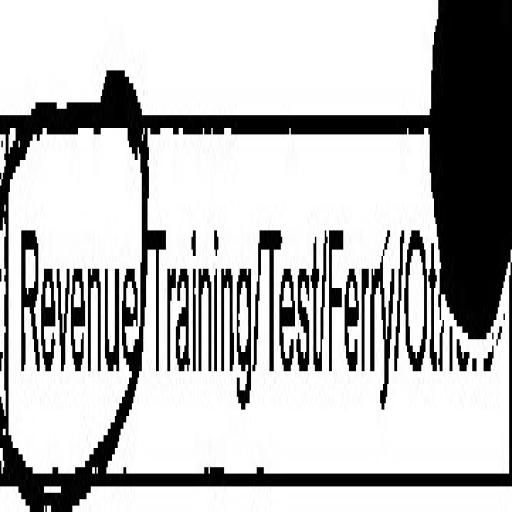check: (7, 0, 143, 512)
